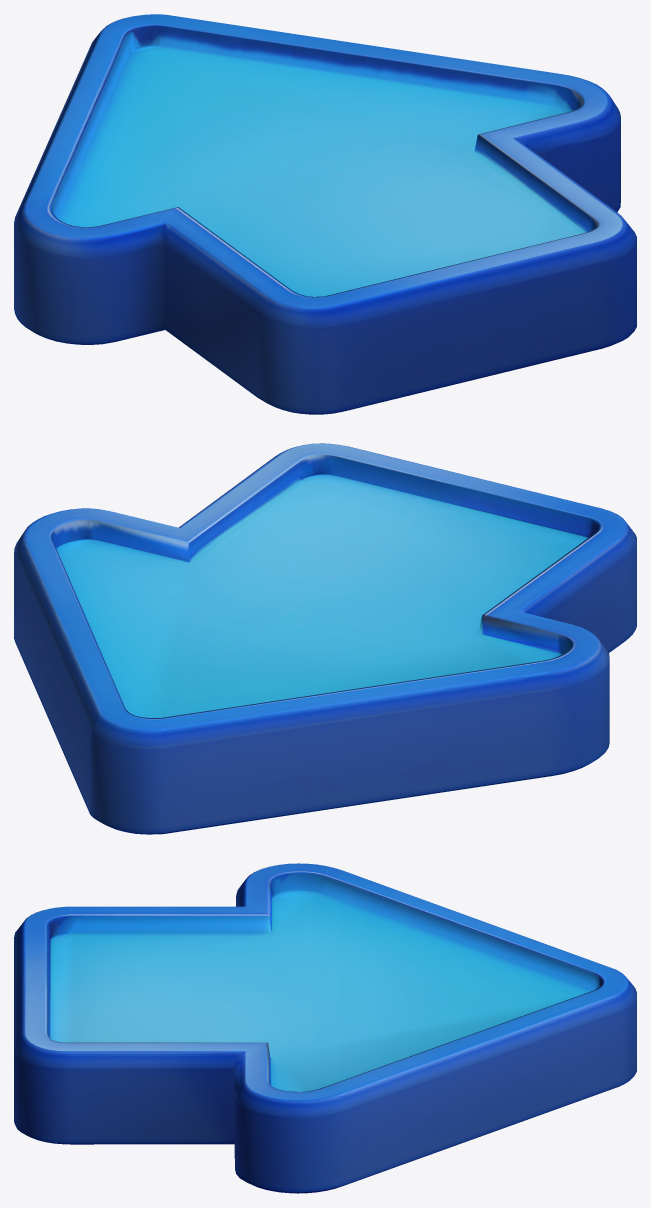
Rendered from c07850e5-0baa-4edf-89a2-d1c9f44552c3.fbx.
3 renders of one model, top to bottom at view 1: azimuth 30°, elevation 25°; view 2: azimuth 150°, elevation 25°; view 3: azimuth 270°, elevation 25°, orthographic. The views are drawn at different scales.
Visible parts, largest first — view 1: f162f13e_b3dd_41fd_8d3c_9b2f3f7979a0; view 2: f162f13e_b3dd_41fd_8d3c_9b2f3f7979a0; view 3: f162f13e_b3dd_41fd_8d3c_9b2f3f7979a0.
Boxes of the visible parts, bbox=[...] form: f162f13e_b3dd_41fd_8d3c_9b2f3f7979a0: bbox=[14, 14, 636, 414]; f162f13e_b3dd_41fd_8d3c_9b2f3f7979a0: bbox=[14, 443, 636, 834]; f162f13e_b3dd_41fd_8d3c_9b2f3f7979a0: bbox=[14, 863, 636, 1193].
Size of the model in its own units: 0.9341 by 0.1597 by 0.9995.
Materials: 1 (1 with a texture image).
